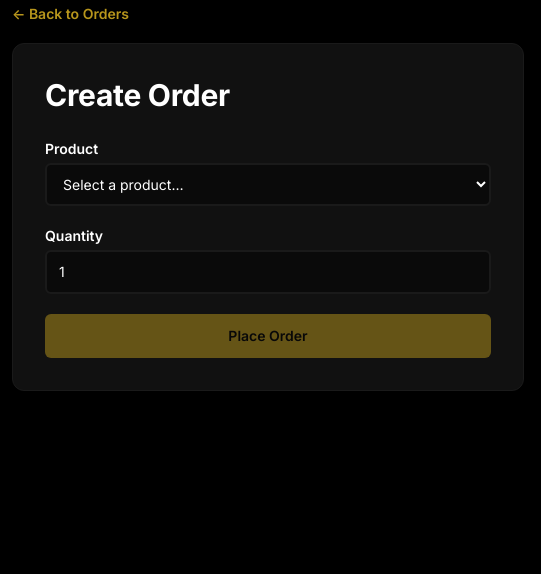
Test case: CreateOrder › shows error message on submission failure
Select "Wireless Keyboard — $79.99" in the dropdown labelled "Product". click: (268,185)
box: [45,163,491,206]
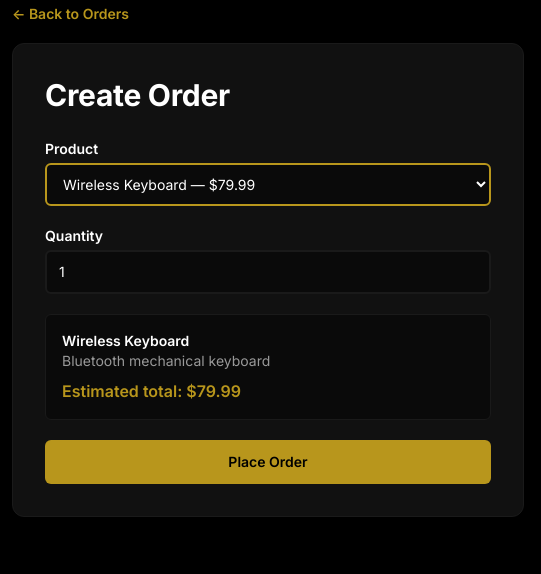
Click the button "Place Order". click: (268,462)
box: [45,440,491,484]
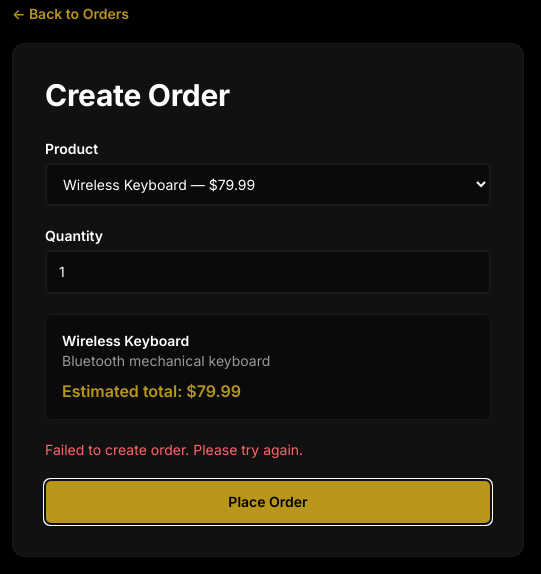
Expected: the text "Failed to create order. Please try again." is shown, [45,441,303,458]
